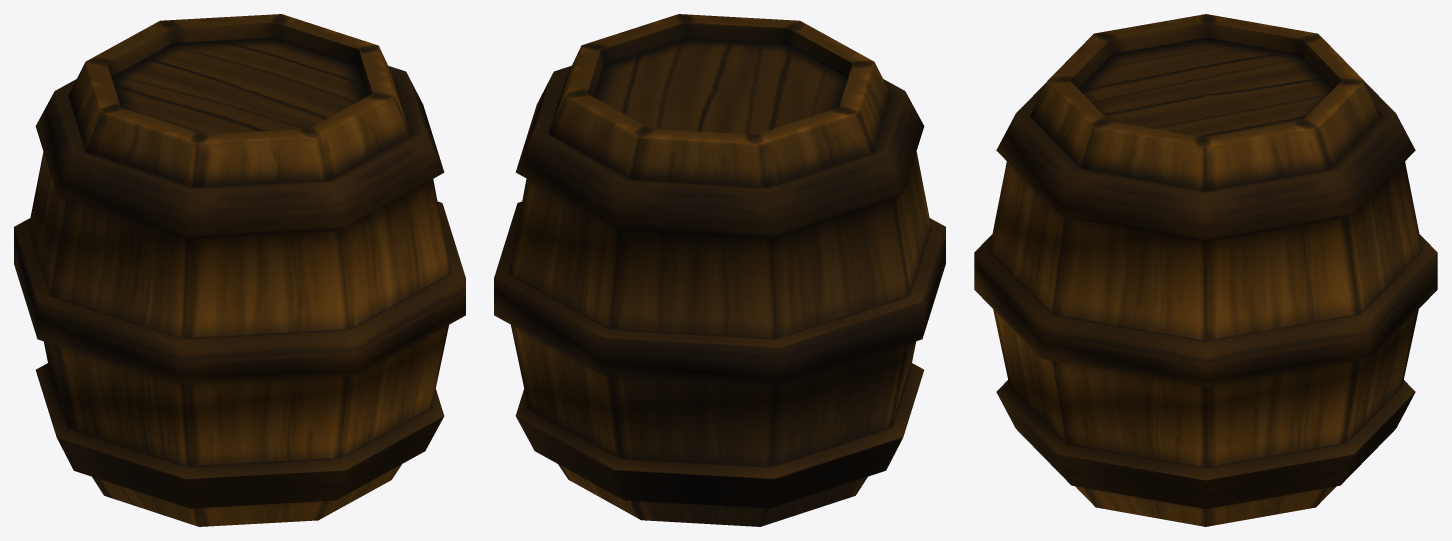
File: barrel.fbx
3 views of the same model, side by side, from view 1: azimuth 30°, elevation 25°; view 2: azimuth 150°, elevation 25°; view 3: azimuth 270°, elevation 25° (orthographic).
Parts seen in each view (by area): view 1: barrel; view 2: barrel; view 3: barrel.
Boxes of the visible parts, x1,y1,x2,y2 form: barrel: [14, 14, 465, 526]; barrel: [494, 14, 945, 526]; barrel: [974, 14, 1437, 526].
Bounding box in the file's own units: 148 × 134 × 148.
Materials: 1 (1 with a texture image).
